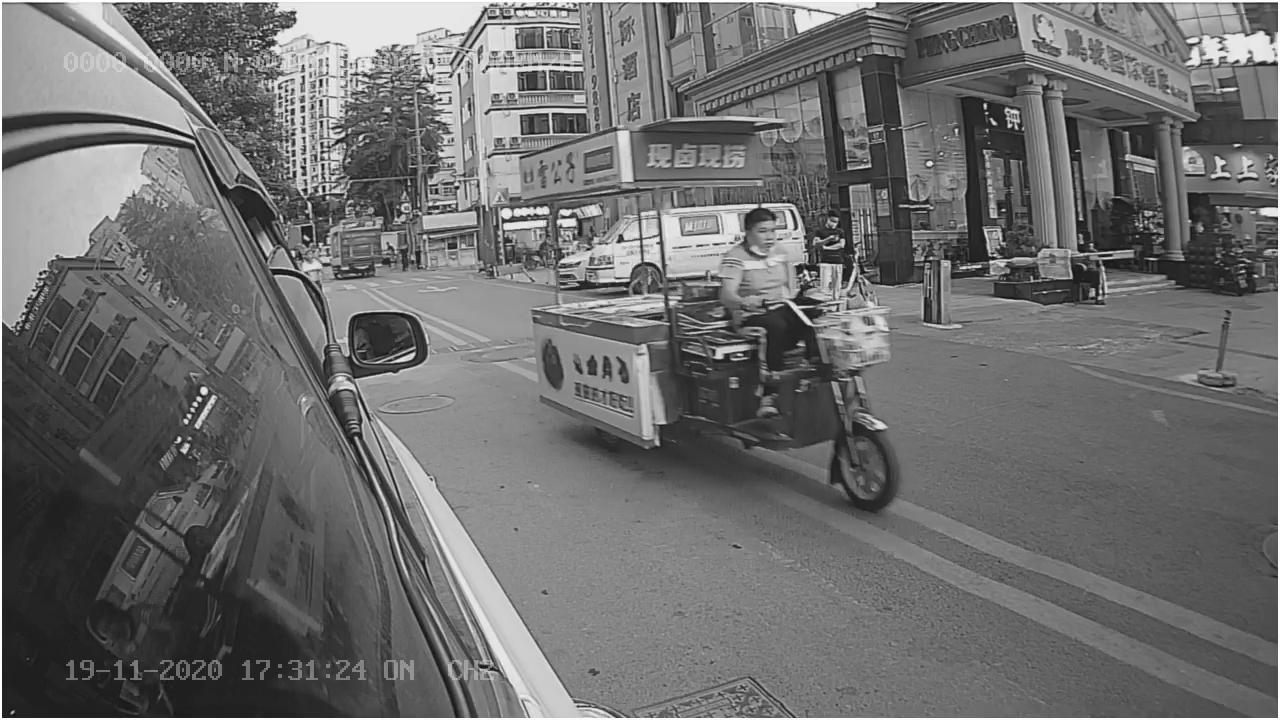person: (710, 206, 808, 294)
